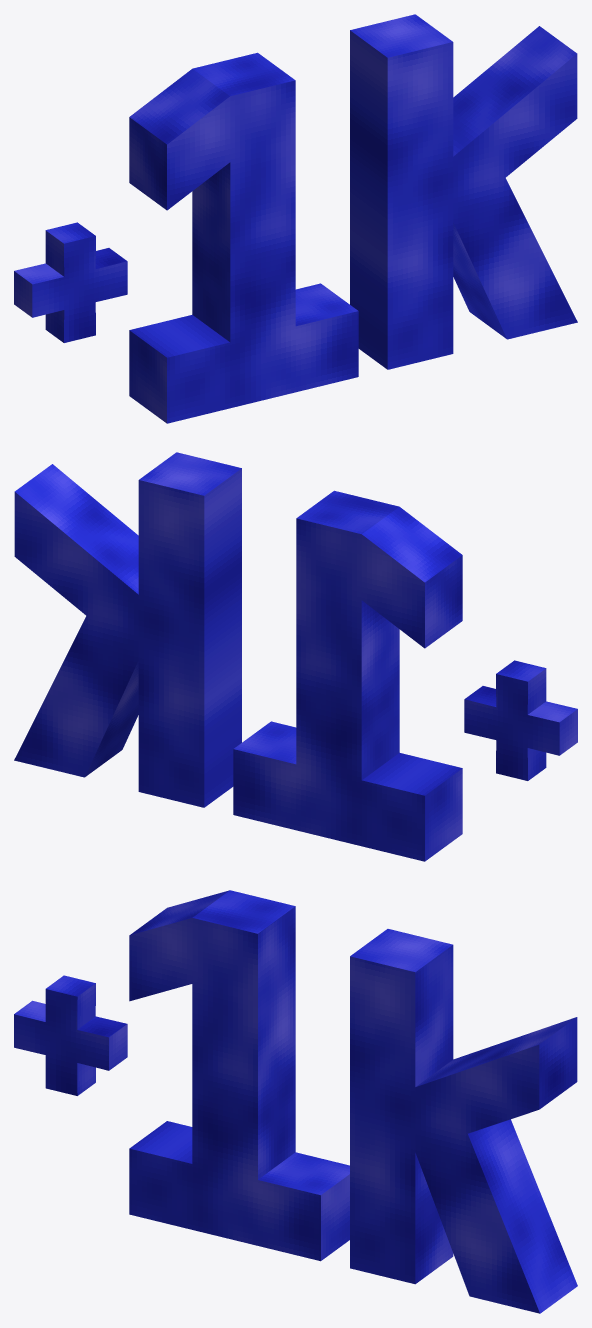
Rendered from PowerUpIncreasePoints.obj.
The picture shows the model from 3 angles, top to bottom: view 1: azimuth 30°, elevation 25°; view 2: azimuth 150°, elevation 25°; view 3: azimuth 330°, elevation 25°; orthographic projection.
Visible parts, largest first — view 1: PowerUp; view 2: PowerUp; view 3: PowerUp.
Part boxes in pixels (x1,y1,x2,y2): PowerUp: (14, 14, 577, 423); PowerUp: (14, 452, 577, 861); PowerUp: (14, 890, 577, 1313).
Size of the model in its own units: 1.28 by 0.7096 by 0.1557.
Materials: 1 (1 with a texture image).
